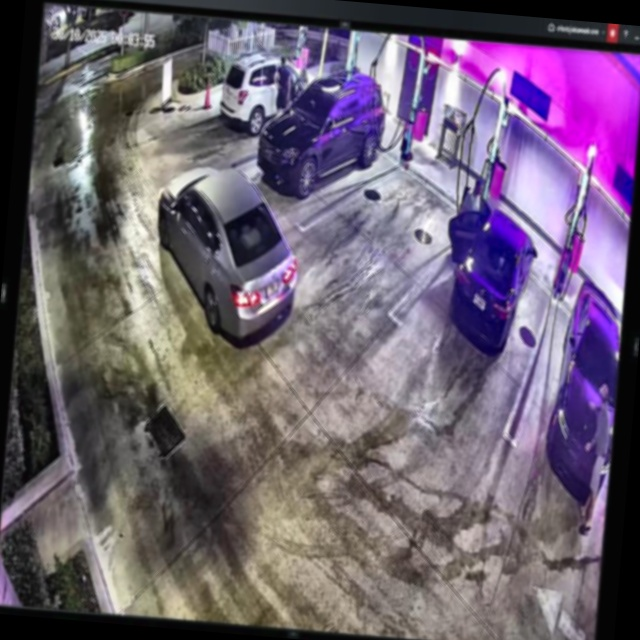Car: (151, 152, 307, 347), (256, 66, 389, 197), (445, 183, 544, 356)
